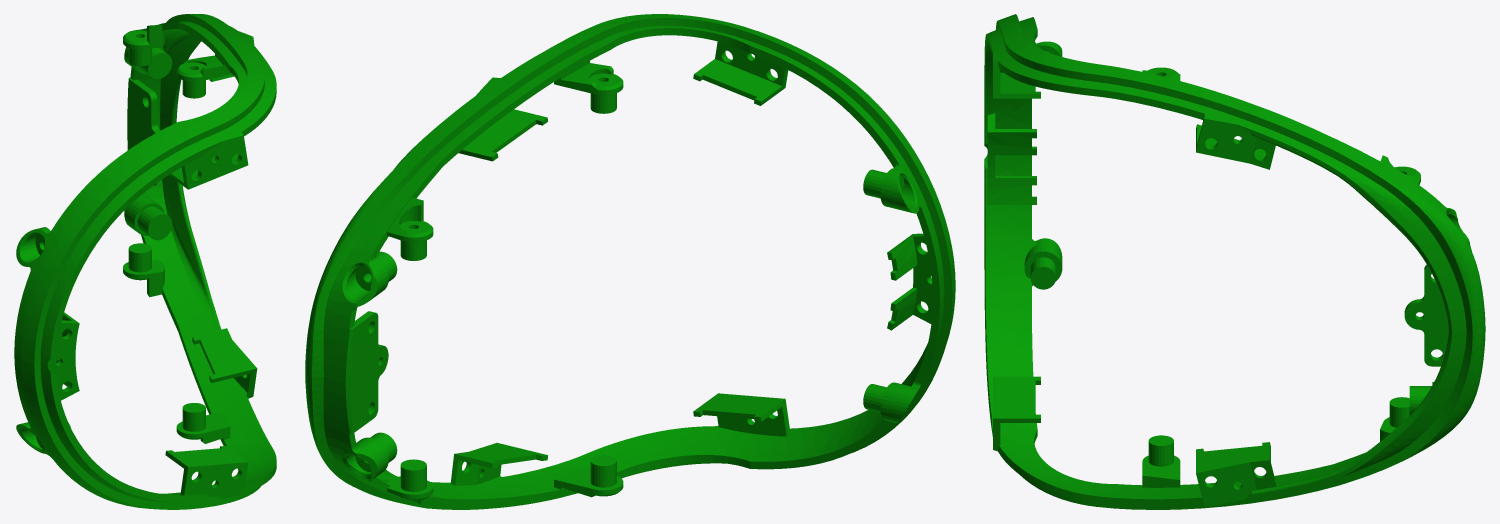
The model's file is HEAD_LIGHT_GUIDE.obj.
The picture shows the model from 3 angles, left to right: view 1: azimuth 30°, elevation 25°; view 2: azimuth 150°, elevation 25°; view 3: azimuth 270°, elevation 25°; orthographic projection. The views are drawn at different scales.
Bounding box in the file's own units: 0.1792 × 0.1908 × 0.1984.
